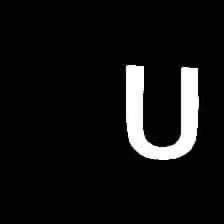LTR_U: (115, 55, 202, 164)
